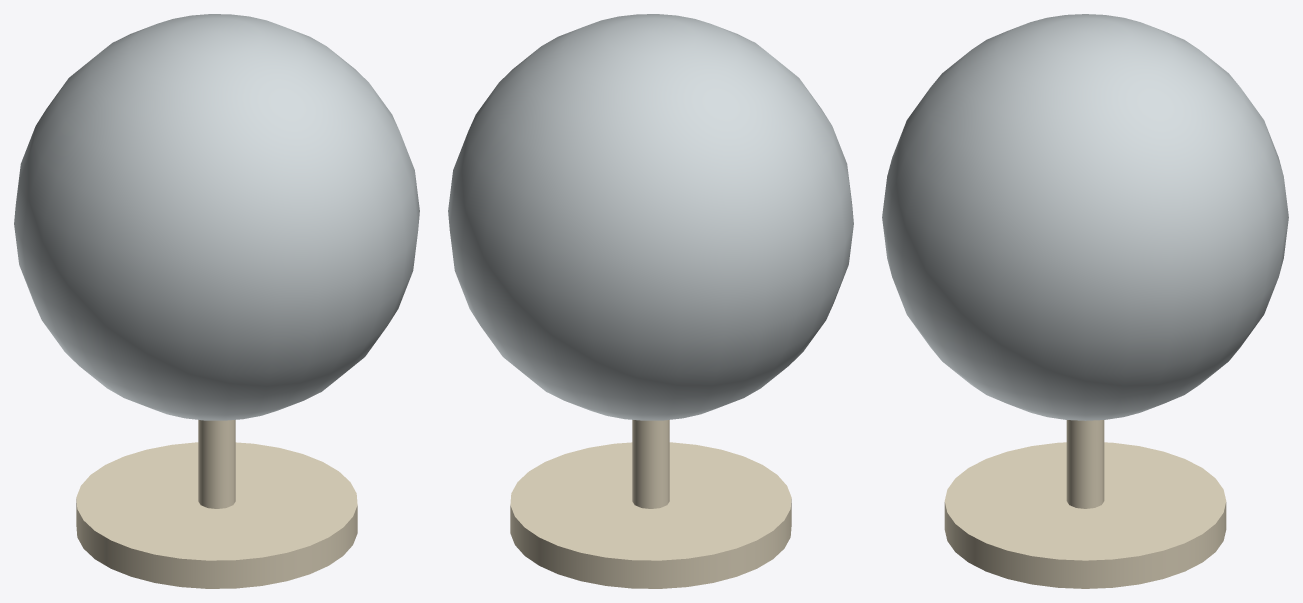
Rendered from it_table_lamp.glb.
3 views of the same model, side by side, from view 1: azimuth 30°, elevation 25°; view 2: azimuth 150°, elevation 25°; view 3: azimuth 270°, elevation 25° (orthographic).
Visible parts, largest first — view 1: globe, base, stem; view 2: globe, base, stem; view 3: globe, base, stem.
Part boxes in pixels (x1,y1,x2,y2): globe: [14, 14, 419, 420]; base: [76, 442, 357, 588]; stem: [198, 420, 235, 508]; globe: [448, 14, 853, 420]; base: [510, 442, 791, 588]; stem: [632, 420, 669, 508]; globe: [882, 14, 1288, 420]; base: [944, 442, 1226, 588]; stem: [1066, 420, 1104, 508].
Size of the model in its own units: 0.26 by 0.35 by 0.26.
